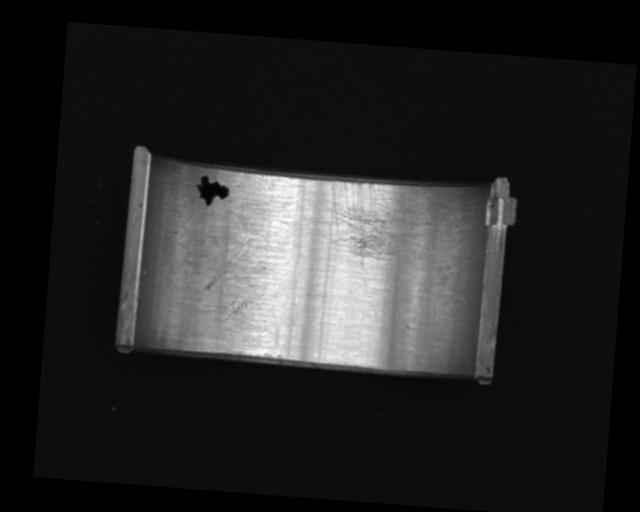blot: (193, 174, 231, 209)
bruise: (222, 296, 248, 323)
nick: (204, 234, 251, 292)
scratch: (323, 178, 454, 274)
